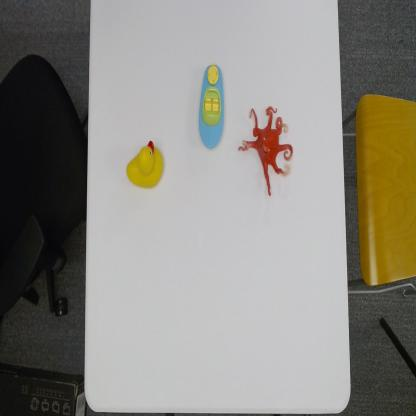Boat: (196, 60, 226, 152)
Duck: (125, 137, 166, 191)
Octopus: (236, 102, 294, 197)
